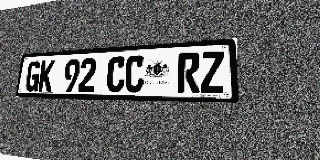2: (78, 58, 97, 92)
9: (62, 59, 81, 92)
C: (124, 55, 145, 92), (106, 56, 126, 92)
G: (24, 61, 41, 91)
K: (38, 60, 55, 92)
R: (177, 52, 200, 93)
Z: (200, 51, 225, 93)
